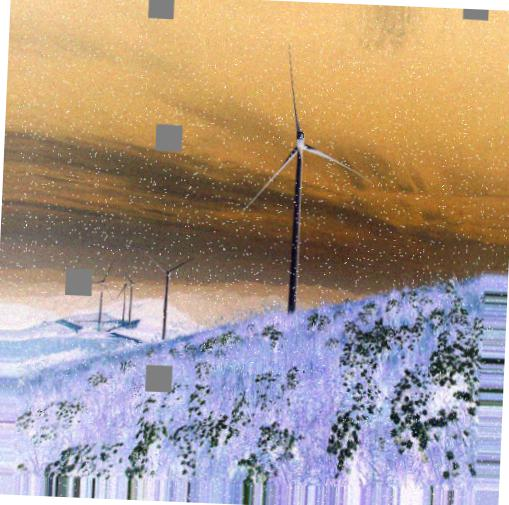wind turbine: (237, 45, 377, 312), (143, 253, 194, 340)
